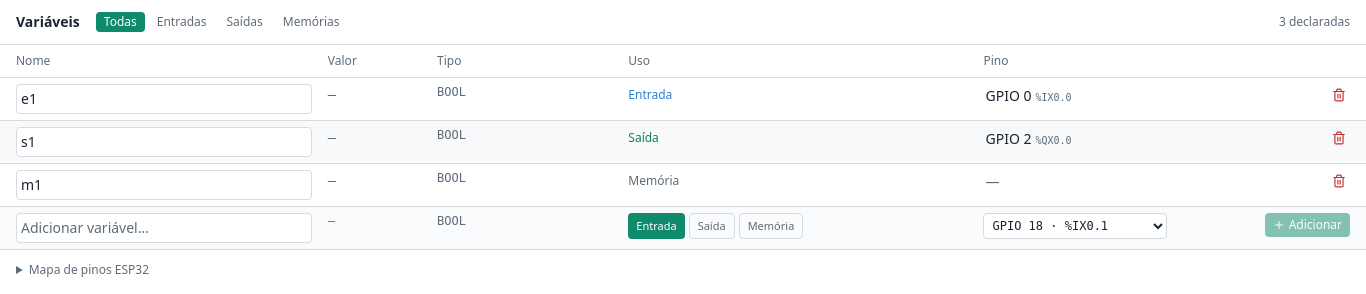
TabelaVariaveis — abas de filtro › começa em "Todas" e filtra por classe ao trocar de aba, com a aba Memórias no lugar de Internas
Expected: the element named "Filtrar variáveis por classe" is shown, [96, 12, 347, 32]
Expected: the number of fields named "Nome da variável " is 3, [16, 84, 312, 114]; [16, 127, 312, 157]; [16, 170, 312, 200]
Click the tab "Entradas" at (182,22), box [149, 12, 214, 32]
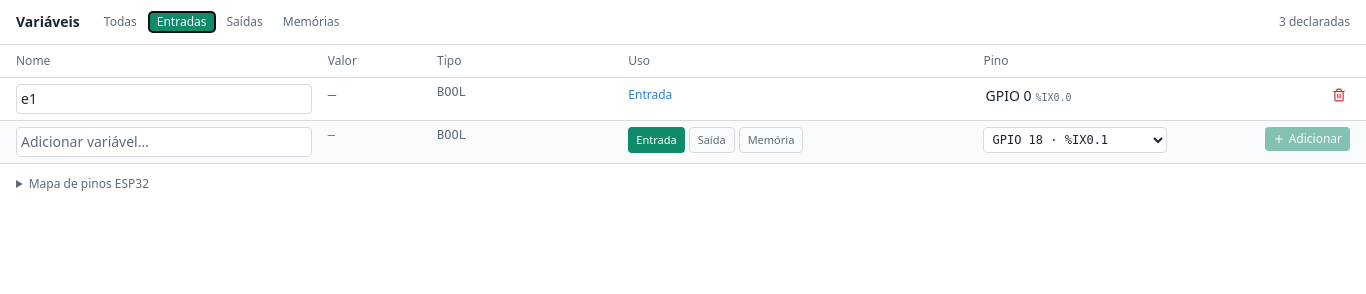
Expected: the field named "Nome da variável e1" is shown, [16, 84, 312, 114]
Result: the tab "Entradas" is selected at [149, 12, 214, 32]
Result: the tab "Todas" is not selected at [96, 12, 145, 32]
Click the tab "Saídas" at (245,22), box [218, 12, 271, 32]
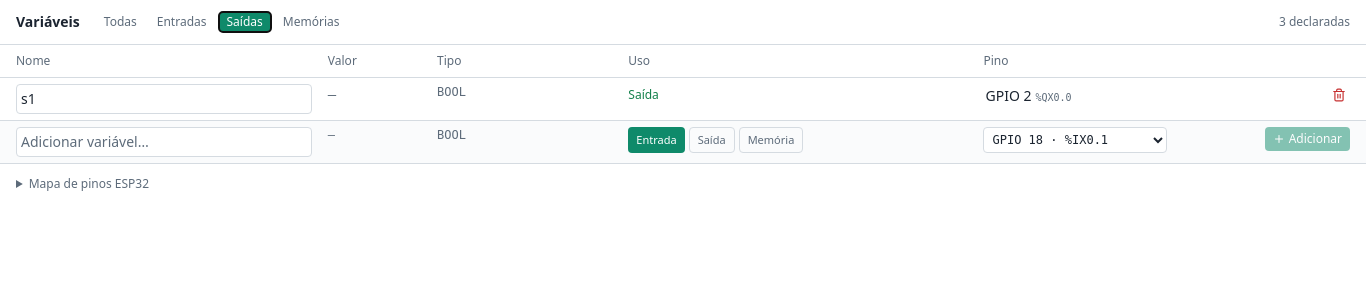
Result: the field named "Nome da variável s1" is shown at [16, 84, 312, 114]
Click the tab "Memórias" at (311,22), box [275, 12, 348, 32]
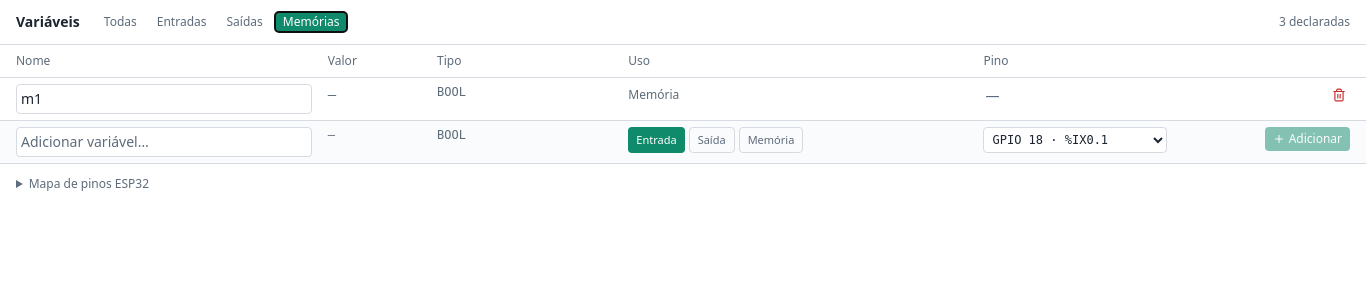
Result: the field named "Nome da variável m1" is shown at [16, 84, 312, 114]
